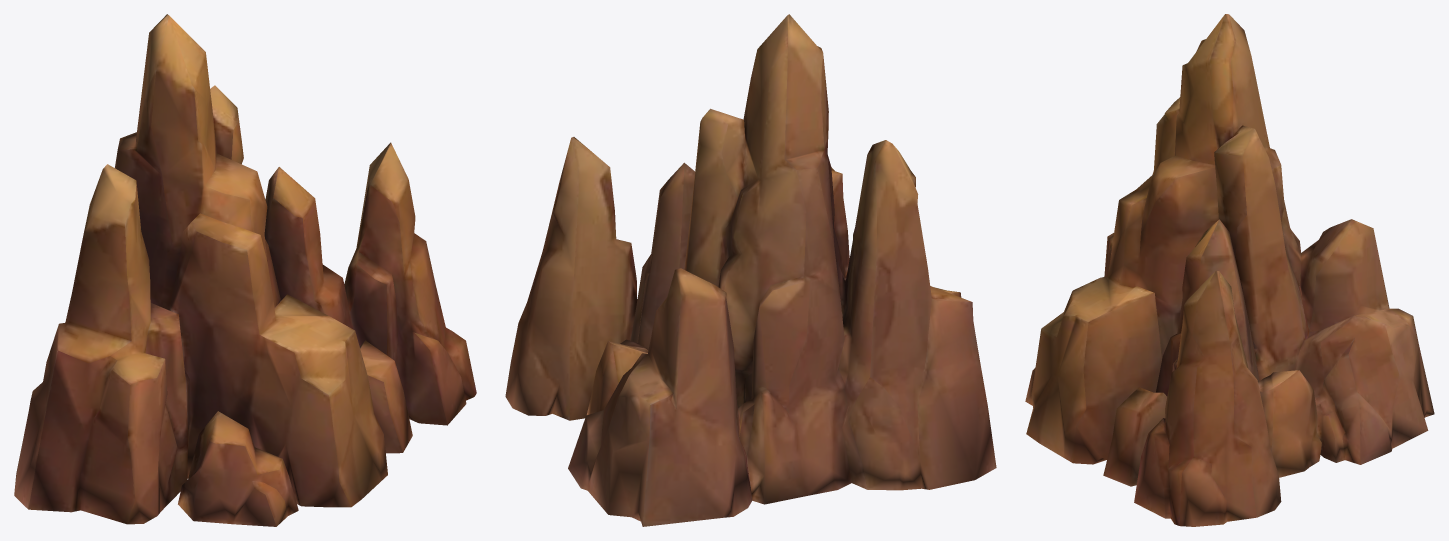
The model's file is cliff_spires_sand.glb.
The picture shows the model from 3 angles, left to right: view 1: azimuth 30°, elevation 25°; view 2: azimuth 150°, elevation 25°; view 3: azimuth 270°, elevation 25°; orthographic projection. The views are drawn at different scales.
Parts seen in each view (by area): view 1: BakeLow; view 2: BakeLow; view 3: BakeLow.
Boxes of the visible parts, box(x1,y1,x2,y2) form: BakeLow: box(14, 14, 476, 526); BakeLow: box(505, 14, 996, 526); BakeLow: box(1025, 14, 1434, 526).
Size of the model in its own units: 0.8582 by 0.7752 by 0.7377.
1 material, 1 textured.
